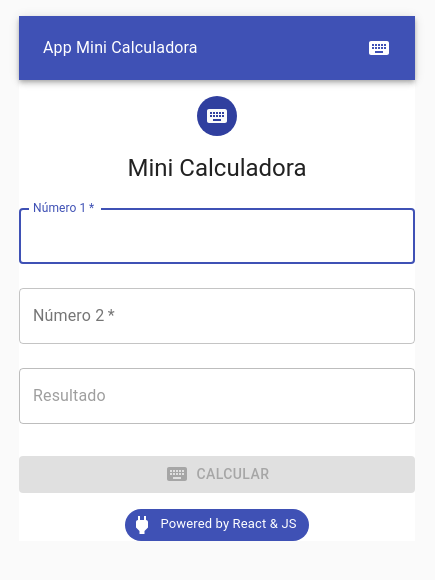
UI Mini Calculadora › Efetua a soma de valores inválidos
The image size is (435, 580).
Expected: the text "Número 1" is shown, [33,200,86,215]
Expected: the text "Número 2" is shown, [33,306,104,325]
Type "a" into the field next to "Número 1".
click(217, 236); type("a")  # box [19,208,415,264]
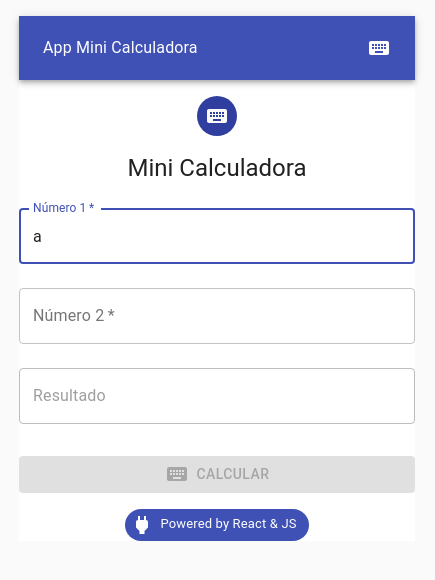
Type "20" into the number field.
click(217, 316); type("20")  # box [19,288,415,344]
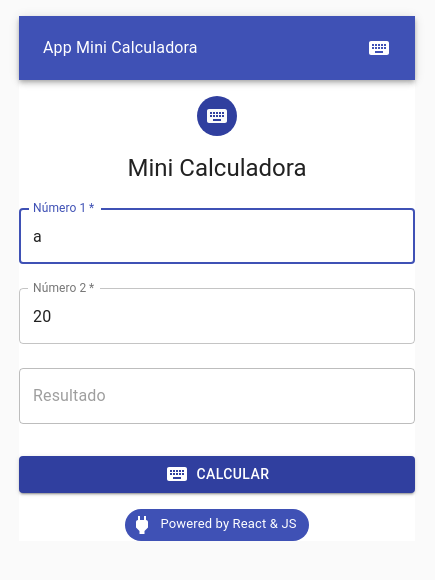
Click the button with test id "calcular".
click(217, 474)  # box [19,456,415,492]
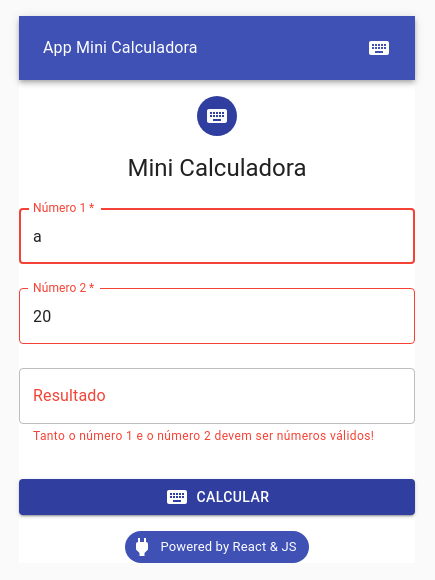
Expected: the field next to "Resultado" is empty, [19,368,415,424]
Expected: the text "Tanto o número 1 e o número 2 devem ser números válidos!" is shown, [33,427,401,447]
